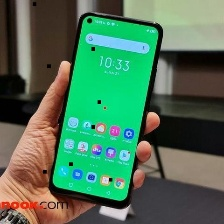phone: (46, 8, 165, 212)
